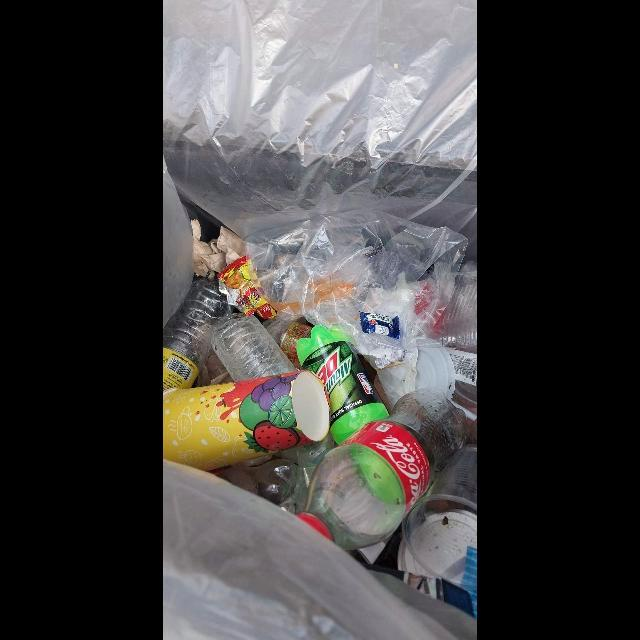cardboard: (163, 370, 330, 472)
food_wrapper: (217, 254, 281, 320), (359, 312, 400, 339)
paper: (191, 220, 247, 279)
plastic_bag: (247, 209, 469, 367)
plastic_bottle: (297, 388, 467, 551), (296, 325, 389, 446), (163, 279, 230, 390), (211, 313, 298, 382)
